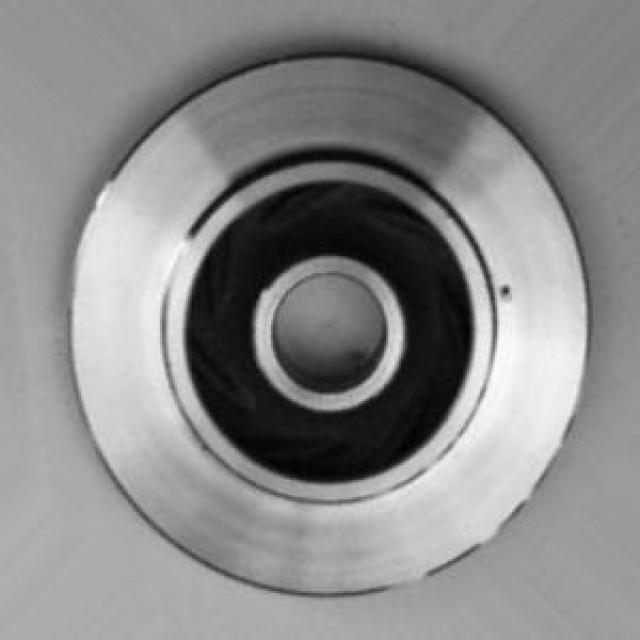Defect: (495, 278, 524, 310)
